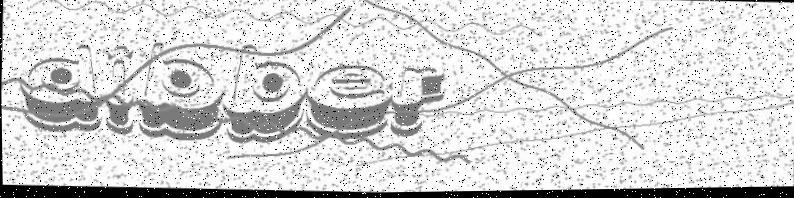b: (224, 39, 310, 149), (136, 38, 226, 142)
d: (11, 36, 105, 133)
e: (305, 58, 392, 142)
i: (104, 42, 139, 134)
r: (385, 60, 448, 143)
